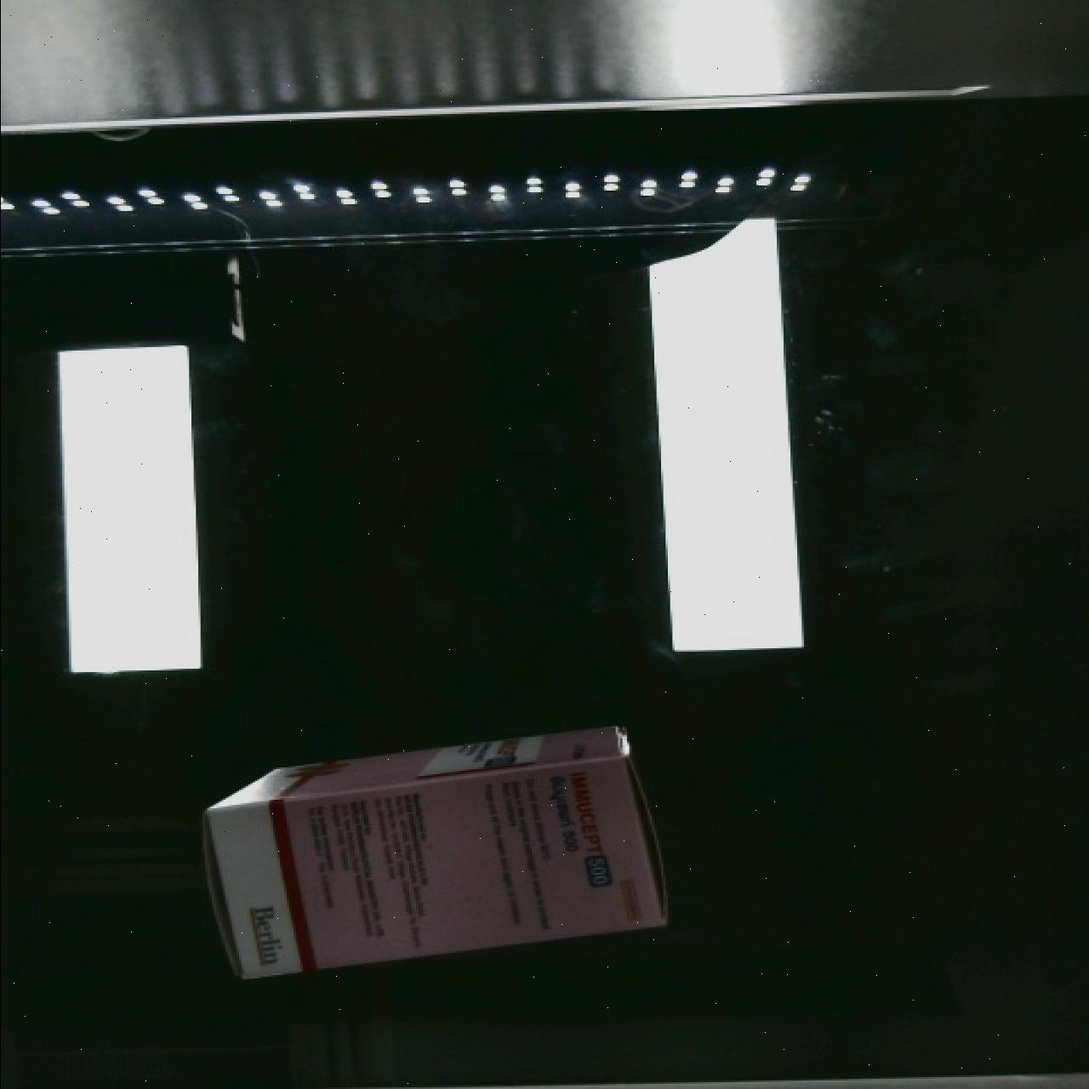medicine_label_obb: (548, 756, 625, 906)
